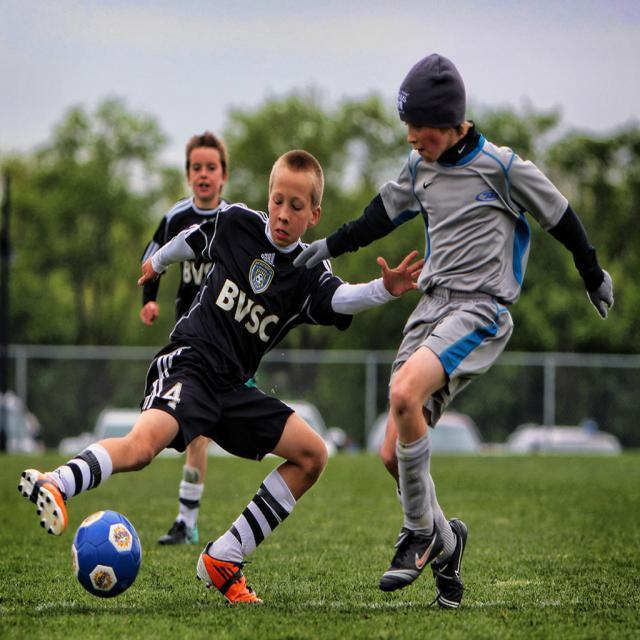football: (66, 512, 149, 601)
